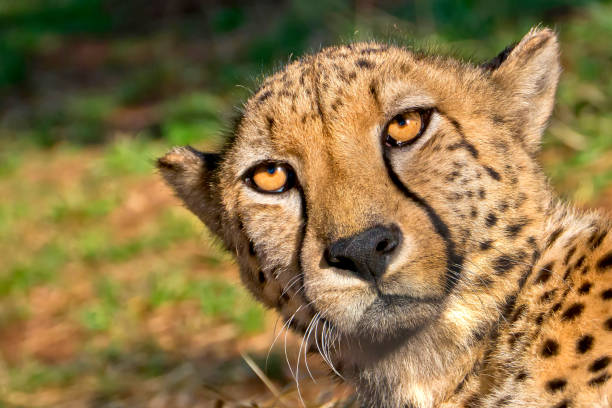cheetah: (124, 17, 575, 408)
